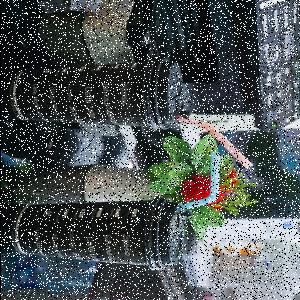Cup: (13, 57, 185, 133), (15, 197, 187, 272)
